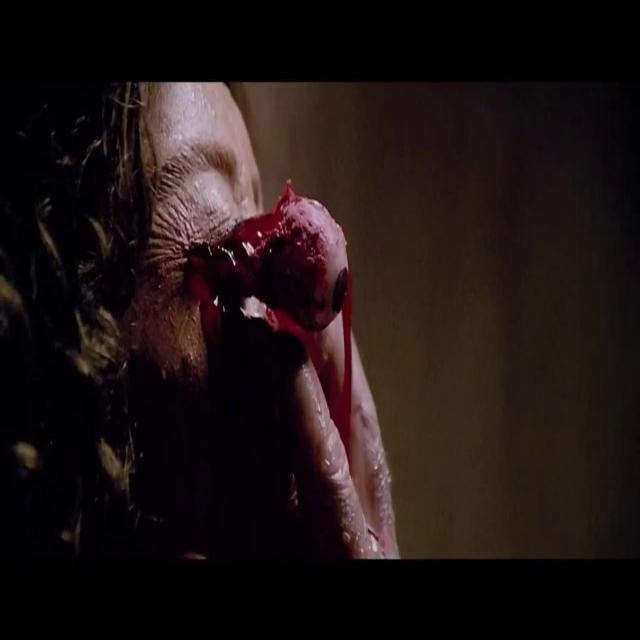flood: (171, 172, 381, 482)
